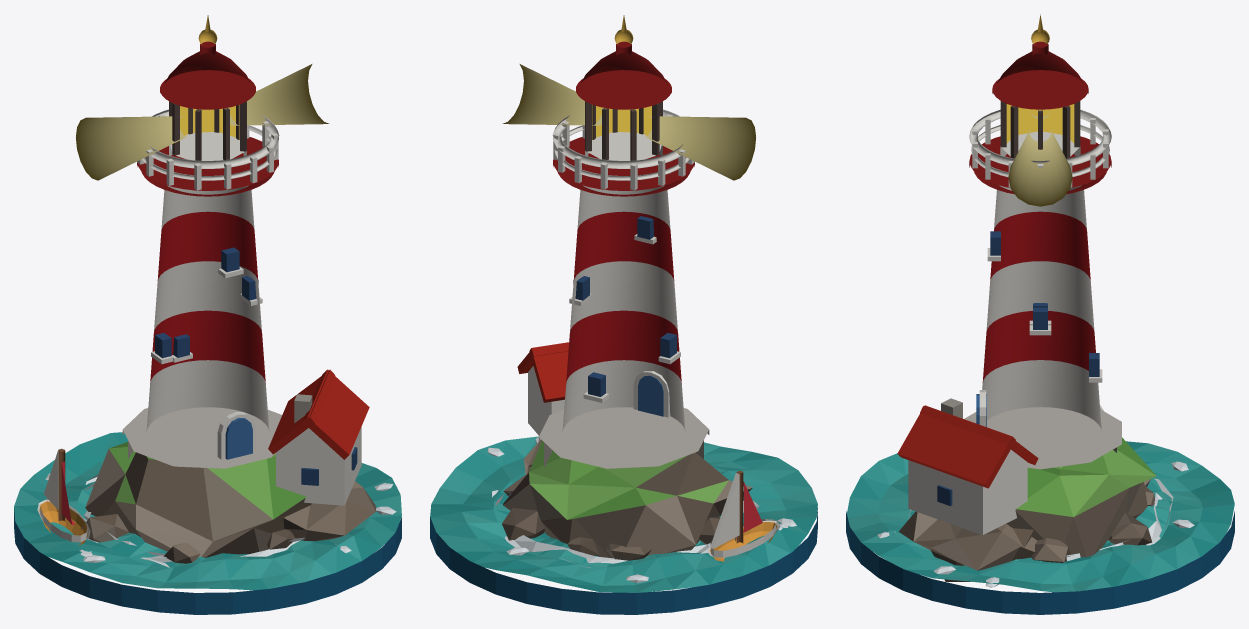
Rendered from lighthouse.glb.
The picture shows the model from 3 angles, left to right: view 1: azimuth 30°, elevation 25°; view 2: azimuth 150°, elevation 25°; view 3: azimuth 270°, elevation 25°; orthographic projection.
Visible parts, largest first — view 1: lighthouse; view 2: lighthouse; view 3: lighthouse.
Part boxes in pixels (<box>): lighthouse: <box>14,15,401,614</box>; lighthouse: <box>430,15,817,614</box>; lighthouse: <box>846,14,1234,614</box>.
Size of the model in its own units: 2.9 by 4.46 by 2.9.
